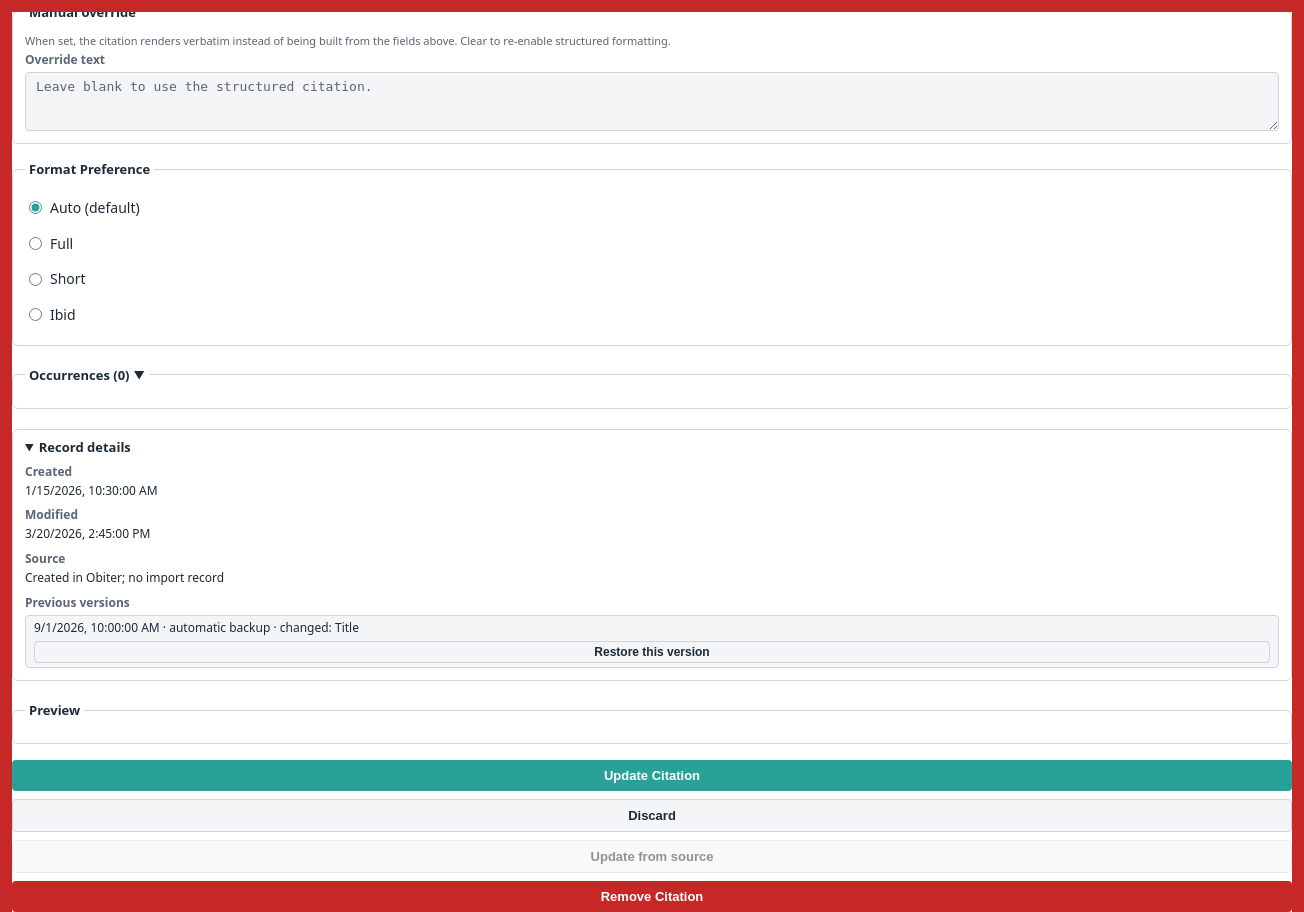
ENP-005: record details in the Edit view › opens from route state, lists the version and restores it through the store
The width and height of the screenshot is (1304, 912).
(page scrolled)
Expected: the heading "Record details" is shown, [39,438,131,456]
Expected: the list item shows "changed: Title", [25,616,1279,668]
What coordinates should you click on to do the following:
click the button "Restore this version"
I would click on:
 (652, 652)
Its box is [34,641,1270,663].
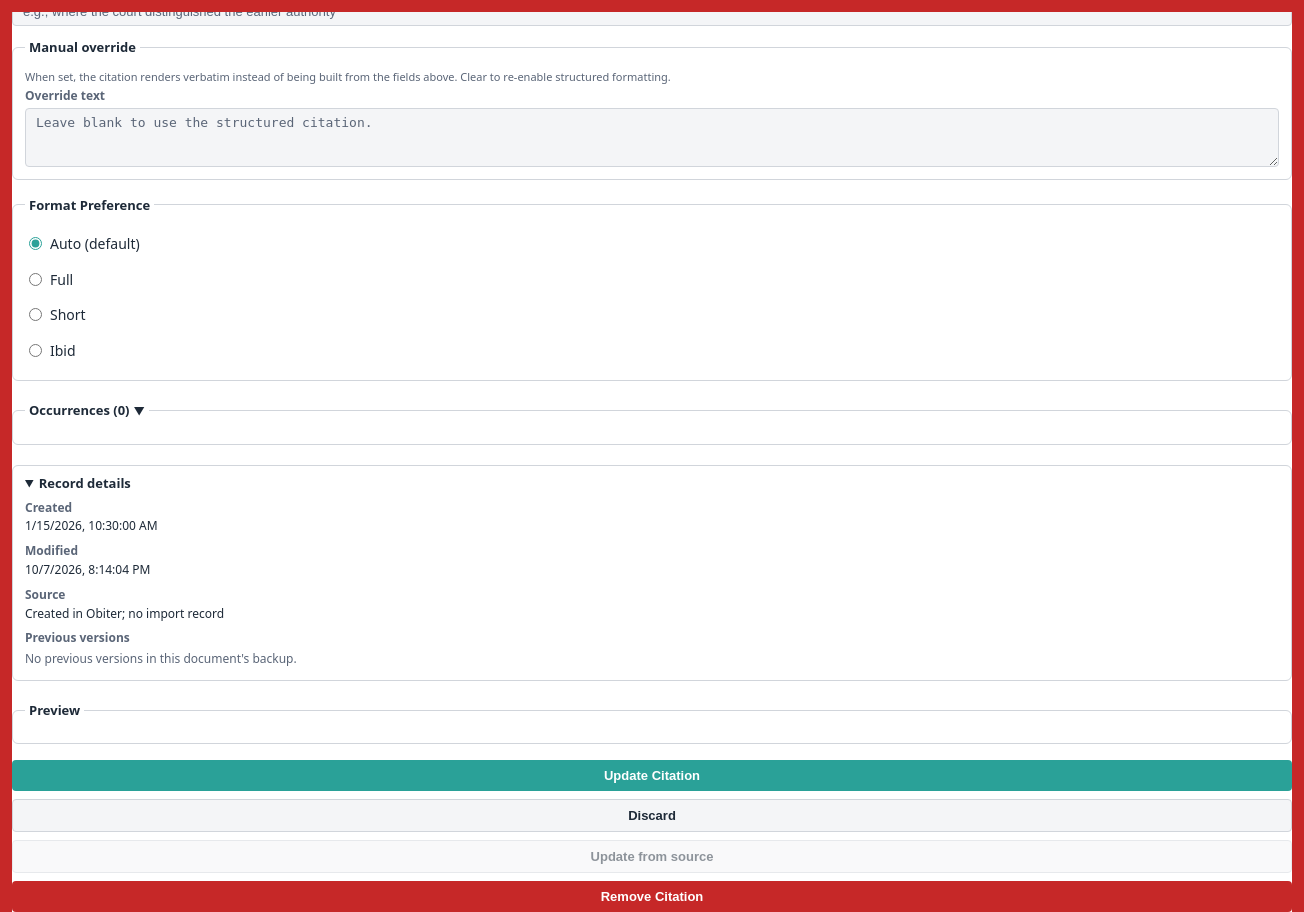
Result: the text "No previous versions in this document's backup." is shown at [25,650,297,667]
